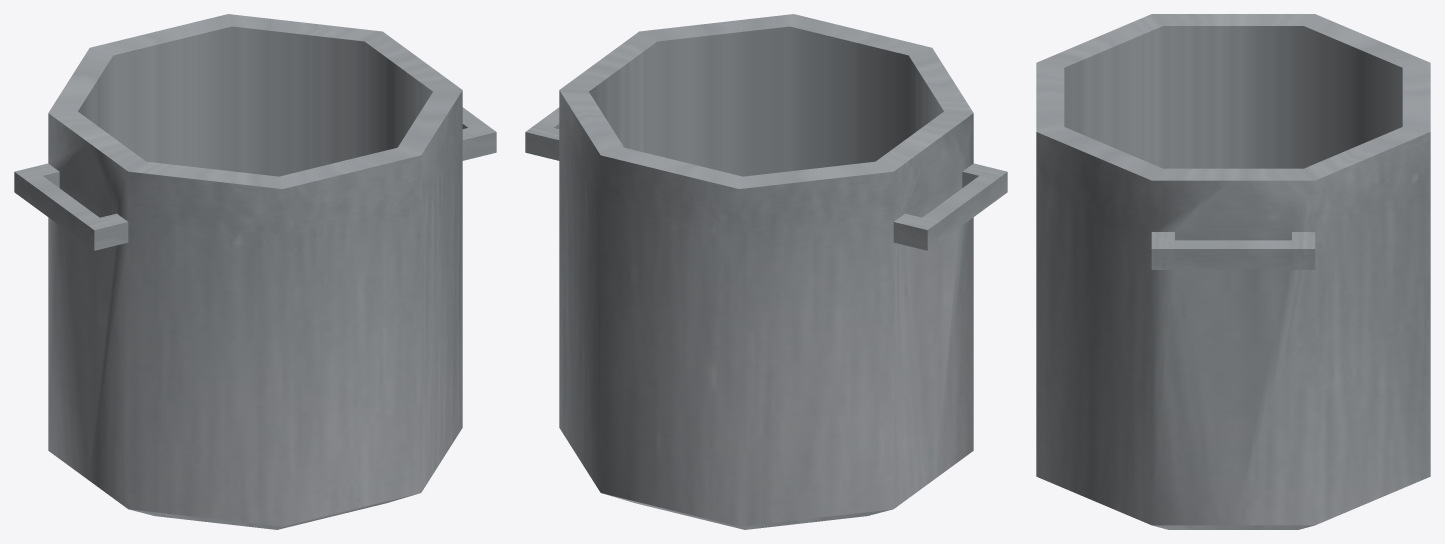
Rendered from BasicPot2.fbx.
3 views of the same model, side by side, from view 1: azimuth 30°, elevation 25°; view 2: azimuth 150°, elevation 25°; view 3: azimuth 270°, elevation 25° (orthographic). The views are drawn at different scales.
Parts seen in each view (by area): view 1: pCylinder1; view 2: pCylinder1; view 3: pCylinder1.
Boxes of the visible parts, x1=… form: pCylinder1: x1=14, y1=14, x2=496, y2=529; pCylinder1: x1=525, y1=14, x2=1007, y2=529; pCylinder1: x1=1036, y1=14, x2=1430, y2=529.
Size of the model in its own units: 0.7109 by 0.6058 by 0.5908.
